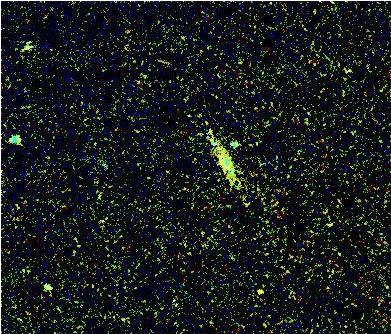star: (245, 277, 275, 307)
